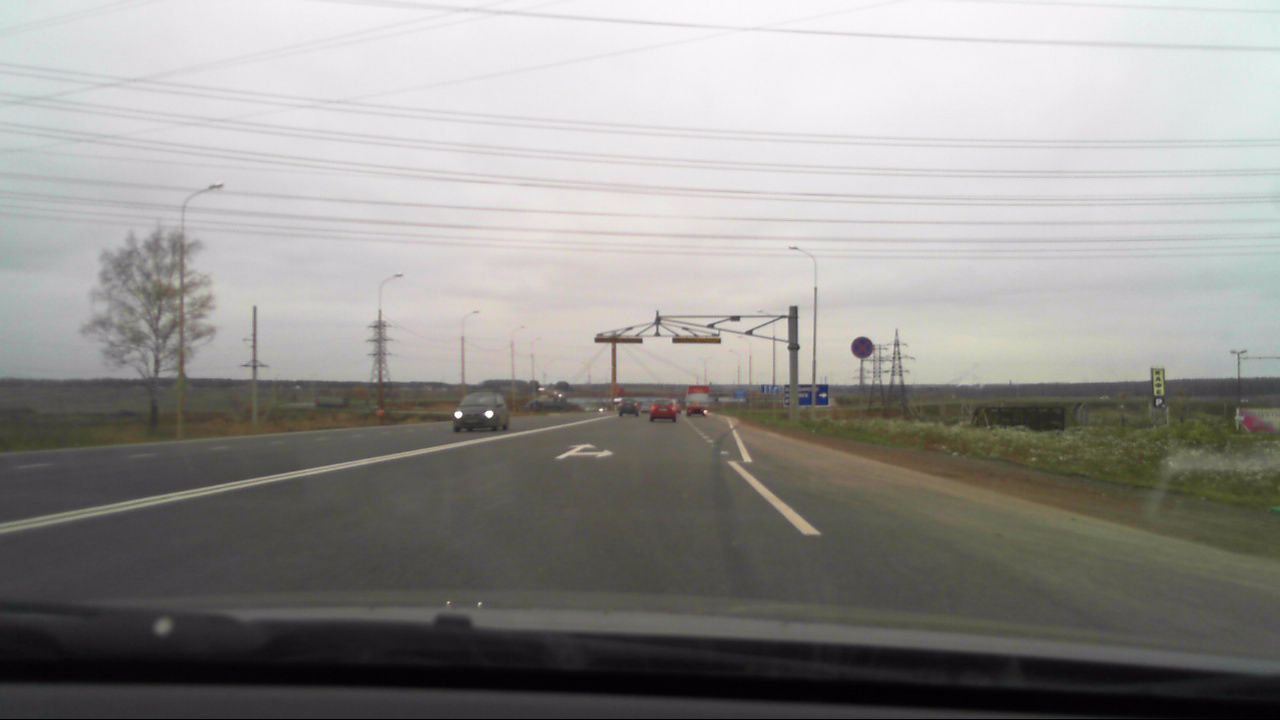No Parking: (849, 335, 875, 359)
